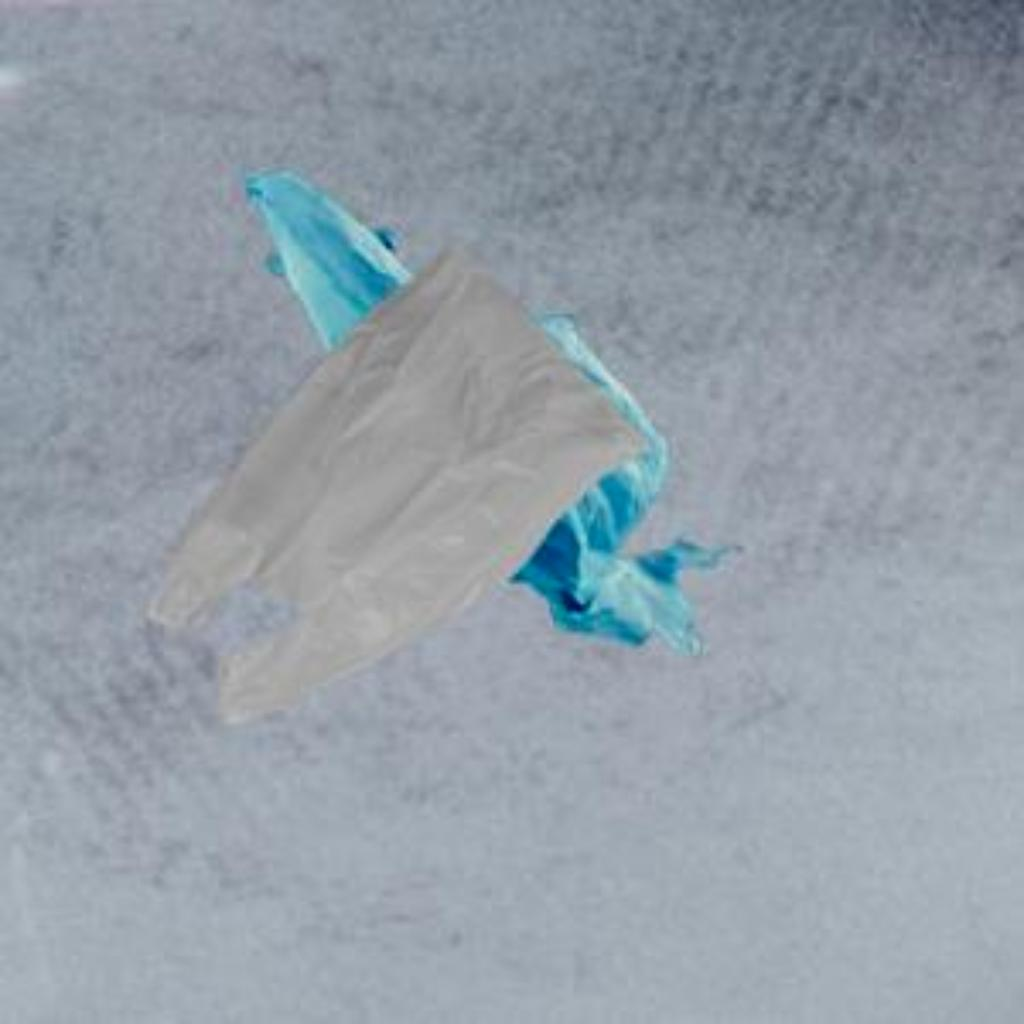garbage: (159, 310, 710, 735), (369, 48, 638, 744)
